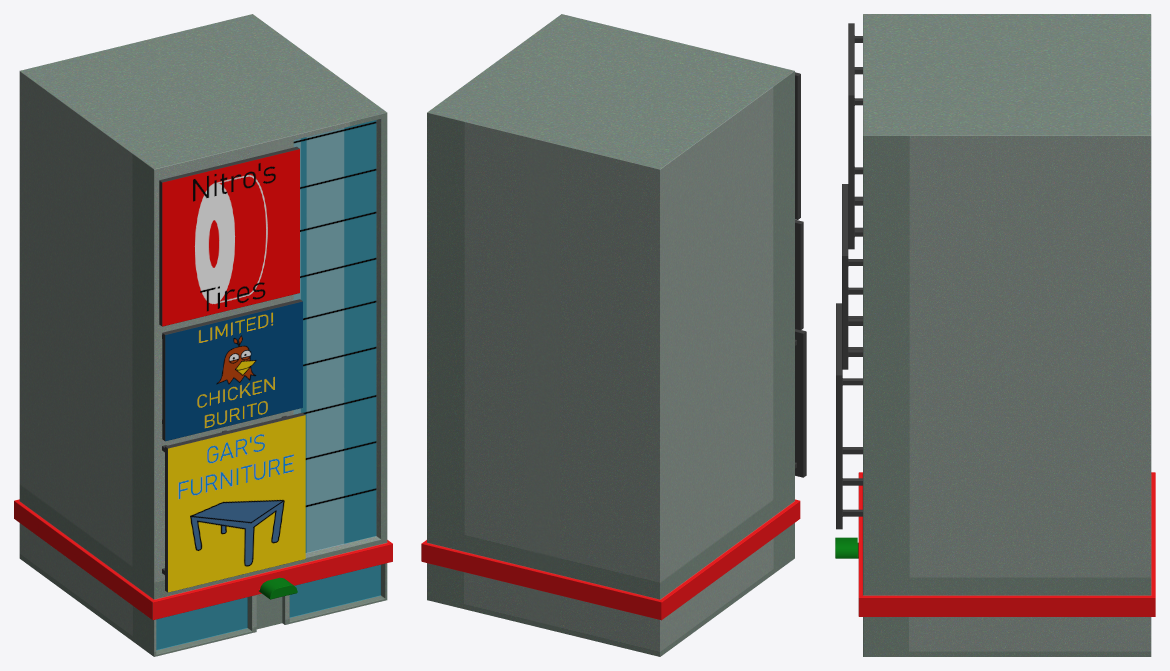
3 renders of one model, left to right at view 1: azimuth 30°, elevation 25°; view 2: azimuth 150°, elevation 25°; view 3: azimuth 270°, elevation 25°, orthographic. The views are drawn at different scales.
Visible parts, largest first — view 1: TS3; view 2: TS3; view 3: TS3.
Boxes of the visible parts, x1=… form: TS3: x1=14, y1=14, x2=392, y2=656; TS3: x1=421, y1=14, x2=806, y2=656; TS3: x1=835, y1=14, x2=1155, y2=656.
Size of the model in its own units: 2000 by 3877 by 2158.
1 material, 1 textured.
